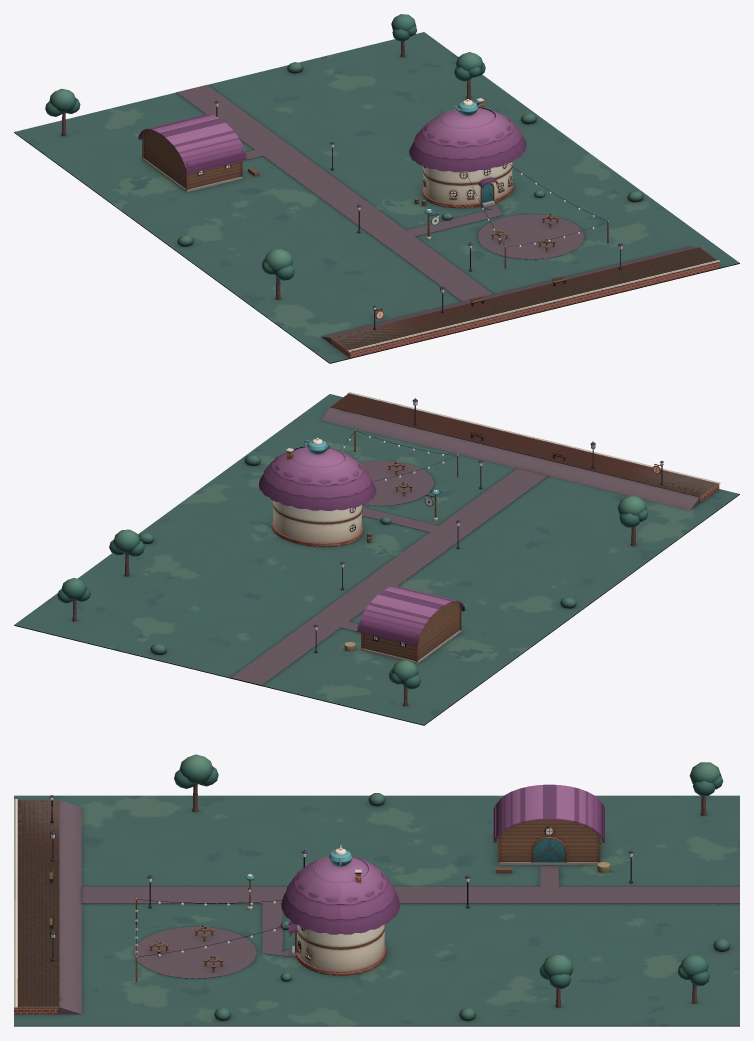
Rendered from stop_inn.fbx.
The picture shows the model from 3 angles, top to bottom: view 1: azimuth 30°, elevation 25°; view 2: azimuth 150°, elevation 25°; view 3: azimuth 270°, elevation 25°; orthographic projection. The views are drawn at different scales.
Visible parts, largest first — view 1: stop_inn; view 2: stop_inn; view 3: stop_inn.
Boxes of the visible parts, box(x1,y1,x2,y2) form: stop_inn: box(14, 14, 739, 363); stop_inn: box(14, 392, 739, 725); stop_inn: box(14, 754, 739, 1026).
Bounding box in the file's own units: 12000 × 2589 × 16000.
Materials: 2 (1 with a texture image).
